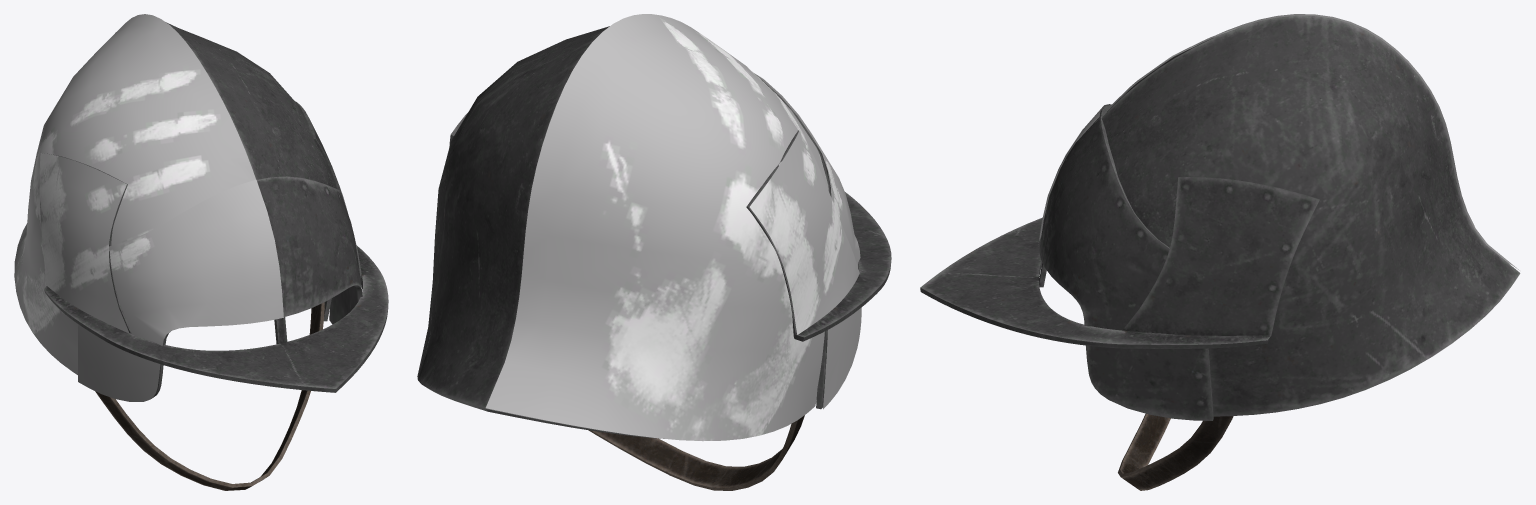
Rendered from sk_uruk_hai_helmet_cross_a2.fbx.
3 views of the same model, side by side, from view 1: azimuth 30°, elevation 25°; view 2: azimuth 150°, elevation 25°; view 3: azimuth 270°, elevation 25° (orthographic). The views are drawn at different scales.
Parts seen in each view (by area): view 1: sk_uruk_hai_helmet_cross_a2.0, sk_uruk_hai_helmet_cross_a2.2, sk_uruk_hai_helmet_cross_a2.1; view 2: sk_uruk_hai_helmet_cross_a2.0, sk_uruk_hai_helmet_cross_a2.2, sk_uruk_hai_helmet_cross_a2.1; view 3: sk_uruk_hai_helmet_cross_a2.2, sk_uruk_hai_helmet_cross_a2.1, sk_uruk_hai_helmet_cross_a2.0.
Part boxes in pixels (left/top/right/bottom): sk_uruk_hai_helmet_cross_a2.0: left=14, top=14, right=283, bottom=401; sk_uruk_hai_helmet_cross_a2.2: left=44, top=22, right=388, bottom=399; sk_uruk_hai_helmet_cross_a2.1: left=95, top=302, right=324, bottom=490; sk_uruk_hai_helmet_cross_a2.0: left=485, top=14, right=861, bottom=441; sk_uruk_hai_helmet_cross_a2.2: left=417, top=26, right=891, bottom=438; sk_uruk_hai_helmet_cross_a2.1: left=588, top=415, right=804, bottom=490; sk_uruk_hai_helmet_cross_a2.2: left=920, top=15, right=1520, bottom=420; sk_uruk_hai_helmet_cross_a2.1: left=1118, top=413, right=1233, bottom=490; sk_uruk_hai_helmet_cross_a2.0: left=1038, top=14, right=1519, bottom=270.
Size of the model in its own units: 0.2266 by 0.3648 by 0.3137.
3 materials, 3 textured.
